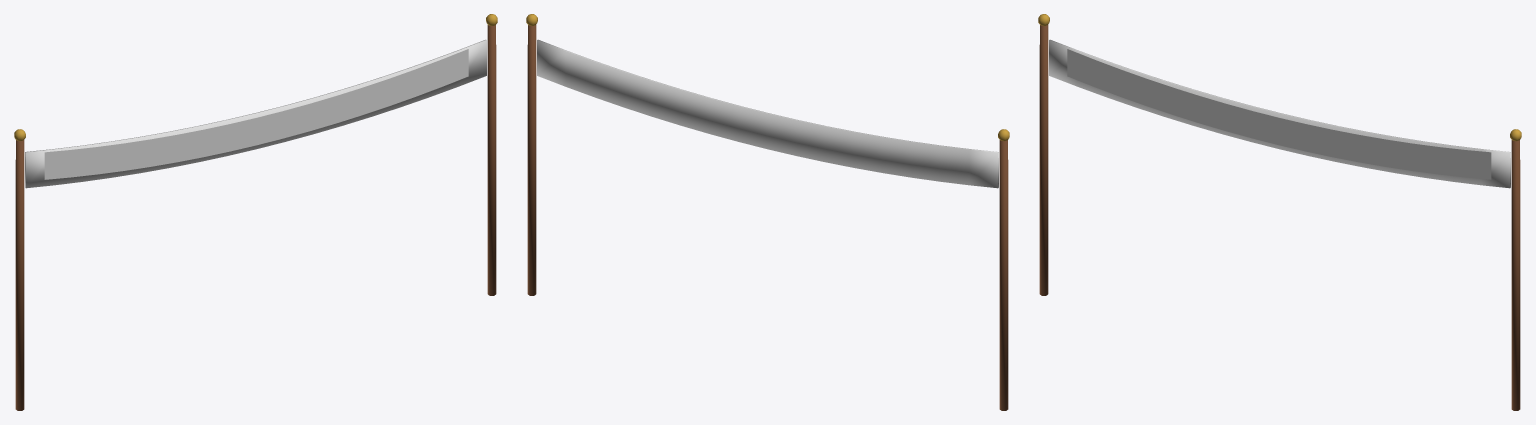
Rendered from banner.glb.
3 views of the same model, side by side, from view 1: azimuth 30°, elevation 25°; view 2: azimuth 150°, elevation 25°; view 3: azimuth 330°, elevation 25° (orthographic).
Visible parts, largest first — view 1: banner_label, banner; view 2: banner; view 3: banner_label, banner.
Part boxes in pixels (left/top/right/bottom): banner_label: left=44, top=49, right=468, bottom=179; banner: left=14, top=14, right=497, bottom=410; banner: left=526, top=14, right=1009, bottom=410; banner_label: left=1067, top=49, right=1491, bottom=179; banner: left=1038, top=14, right=1521, bottom=410.
Size of the model in its own units: 8.79 by 4.87 by 0.1902.
